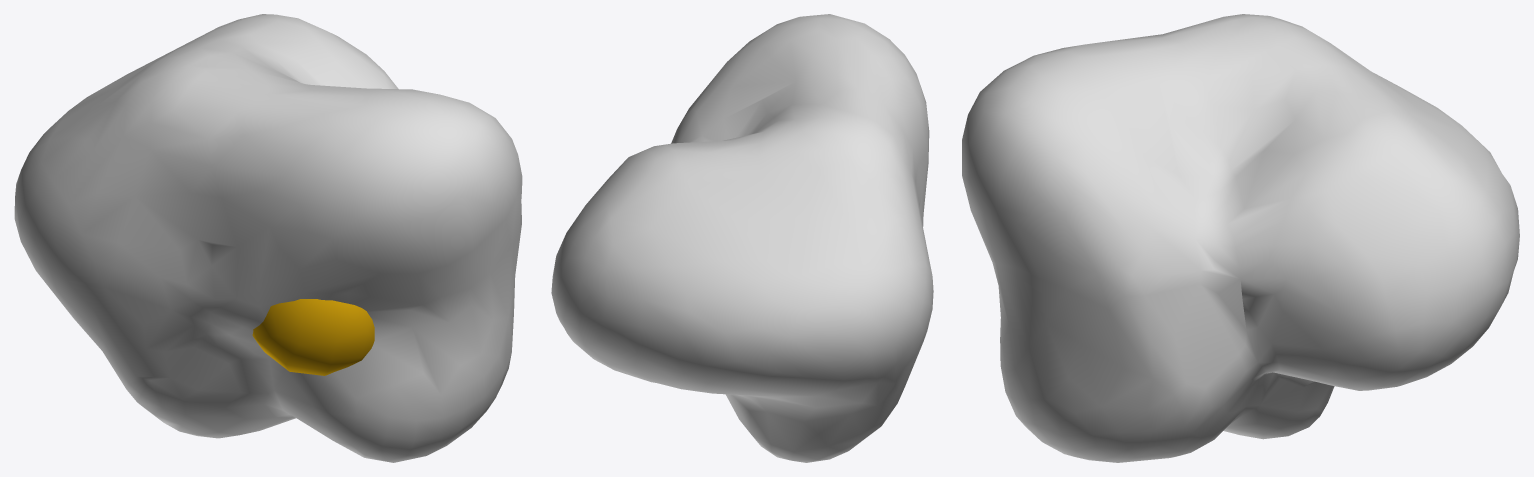
File: Popcorn.fbx
The picture shows the model from 3 angles, left to right: view 1: azimuth 30°, elevation 25°; view 2: azimuth 150°, elevation 25°; view 3: azimuth 270°, elevation 25°; orthographic projection. The views are drawn at different scales.
Visible parts, largest first — view 1: Popcorn_1_2_2.002; view 2: Popcorn_1_2_2.002; view 3: Popcorn_1_2_2.002.
Boxes of the visible parts, bbox=[...] form: Popcorn_1_2_2.002: bbox=[14, 14, 522, 462]; Popcorn_1_2_2.002: bbox=[551, 14, 933, 462]; Popcorn_1_2_2.002: bbox=[962, 14, 1519, 462].
Bounding box in the file's own units: 2078 × 2049 × 2598.
